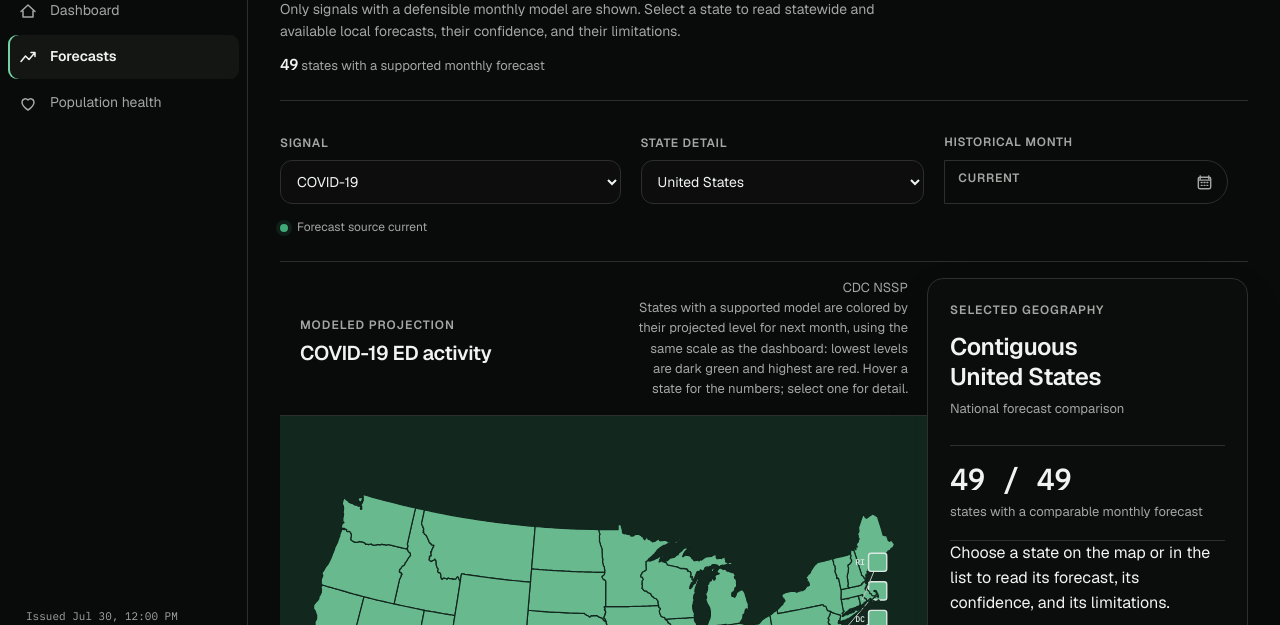
ForecastsPage (monthly state-level, supported only) › has no county detail: the state readout shows the monthly forecast fields
Select "Massachusetts" in the dropdown named "Forecast state" at (782, 182), box [640,160,924,204]
(page scrolled)
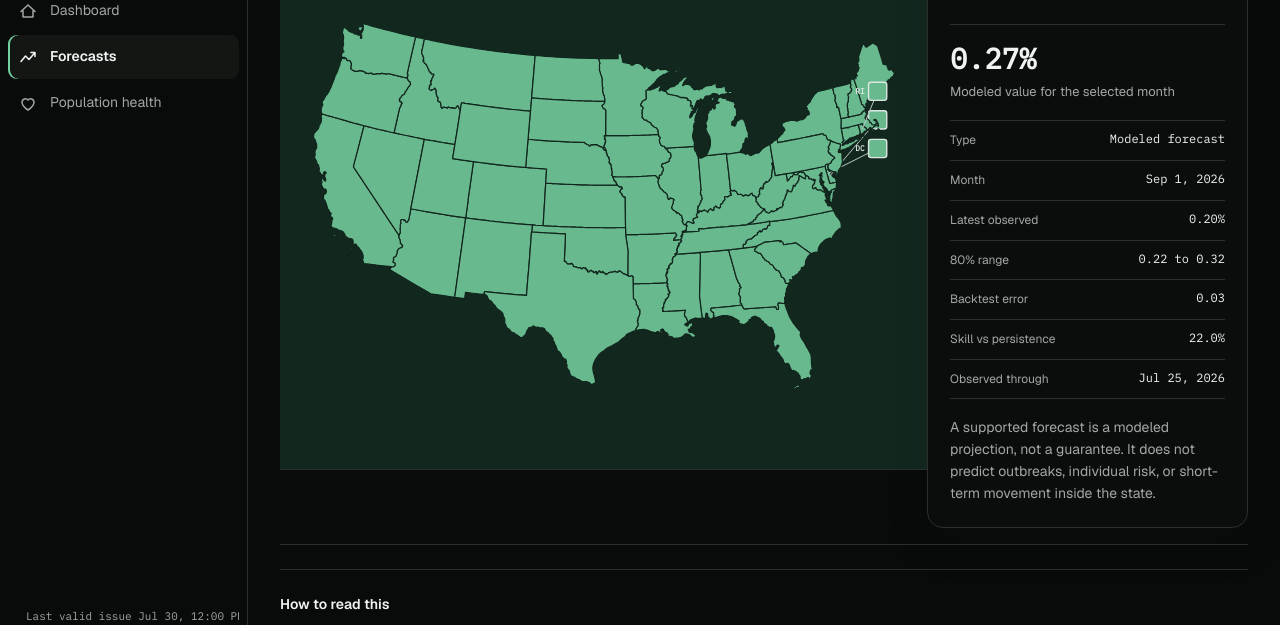
Result: the text "Type" is shown at [950,132,976,148]
Result: the text "Modeled forecast" is shown at [1110,131,1225,150]
Result: the text "0.27%" is shown at [950,39,1036,77]
